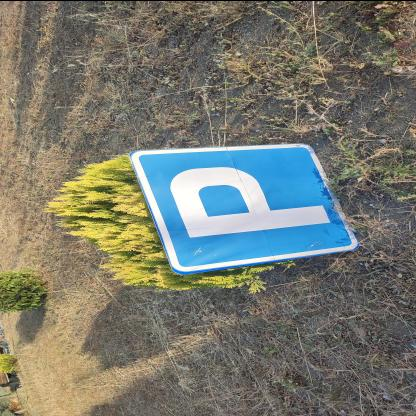Parking-Sign: (125, 142, 367, 278)
